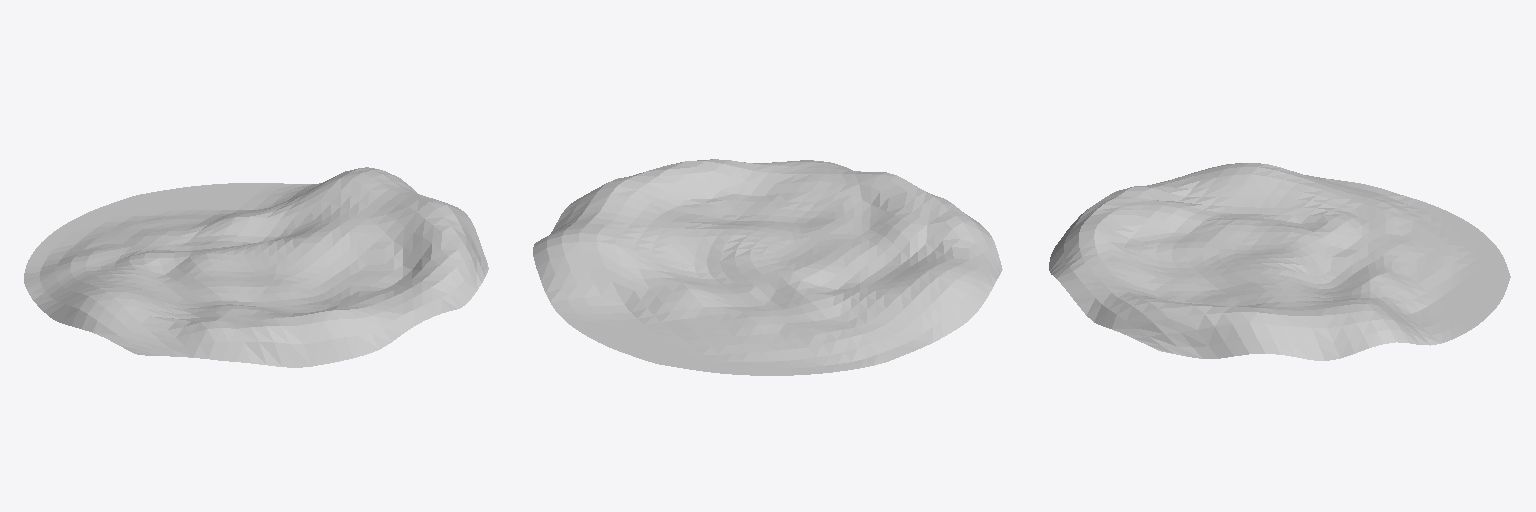
Rendered from dirt.obj.
3 views of the same model, side by side, from view 1: azimuth 30°, elevation 25°; view 2: azimuth 150°, elevation 25°; view 3: azimuth 270°, elevation 25° (orthographic).
Visible parts, largest first — view 1: pDisc1; view 2: pDisc1; view 3: pDisc1.
Part boxes in pixels (x1,y1,x2,y2): pDisc1: (24,167,488,367); pDisc1: (533,159,1002,375); pDisc1: (1049,163,1510,360).
Size of the model in its own units: 2.2 by 0.2359 by 2.18.